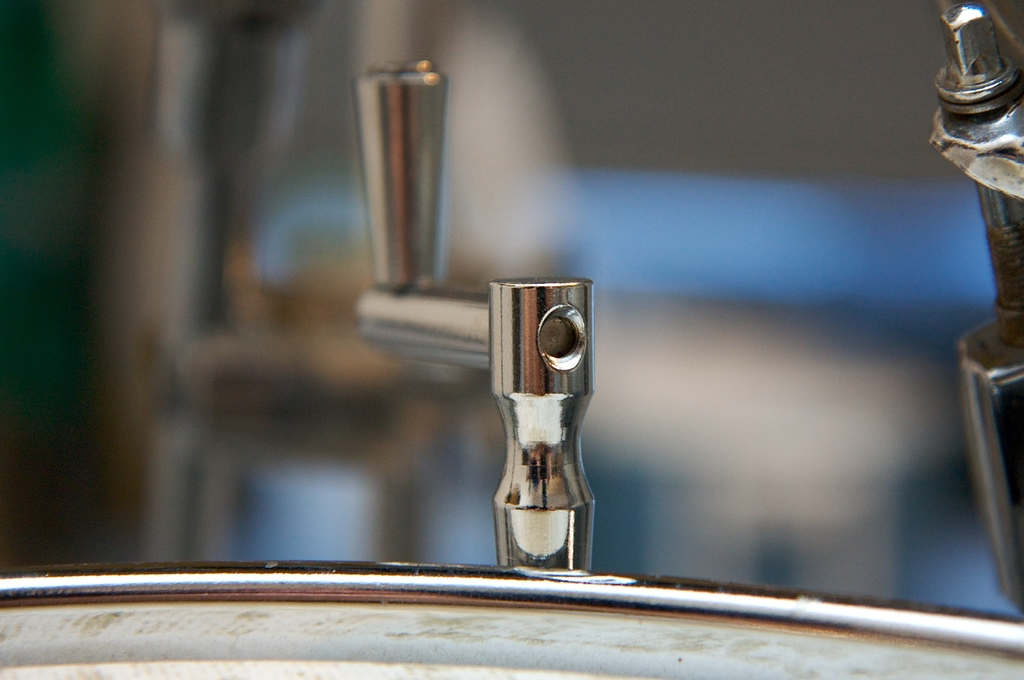tap: (356, 58, 634, 586)
